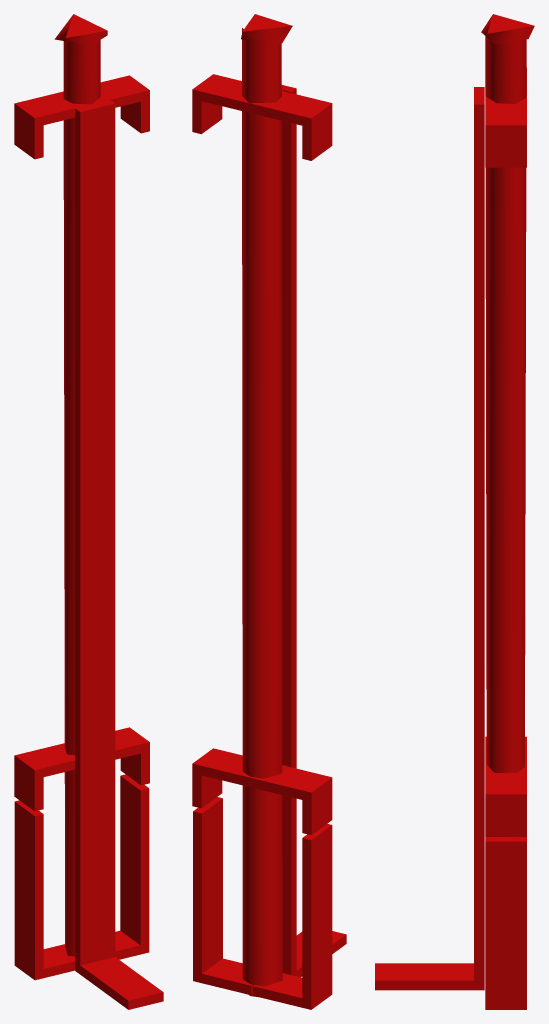
The picture shows the model from 3 angles, left to right: view 1: azimuth 30°, elevation 25°; view 2: azimuth 150°, elevation 25°; view 3: azimuth 270°, elevation 25°; orthographic projection. The views are drawn at different scales.
Parts seen in each view (by area): view 1: Mesh; view 2: Mesh; view 3: Mesh.
Boxes of the visible parts, x1,y1,x2,y2 form: Mesh: [14, 14, 163, 1009]; Mesh: [192, 14, 346, 1009]; Mesh: [375, 14, 534, 1009].
Size of the model in its own units: 0.1464 by 1.14 by 0.1713.
